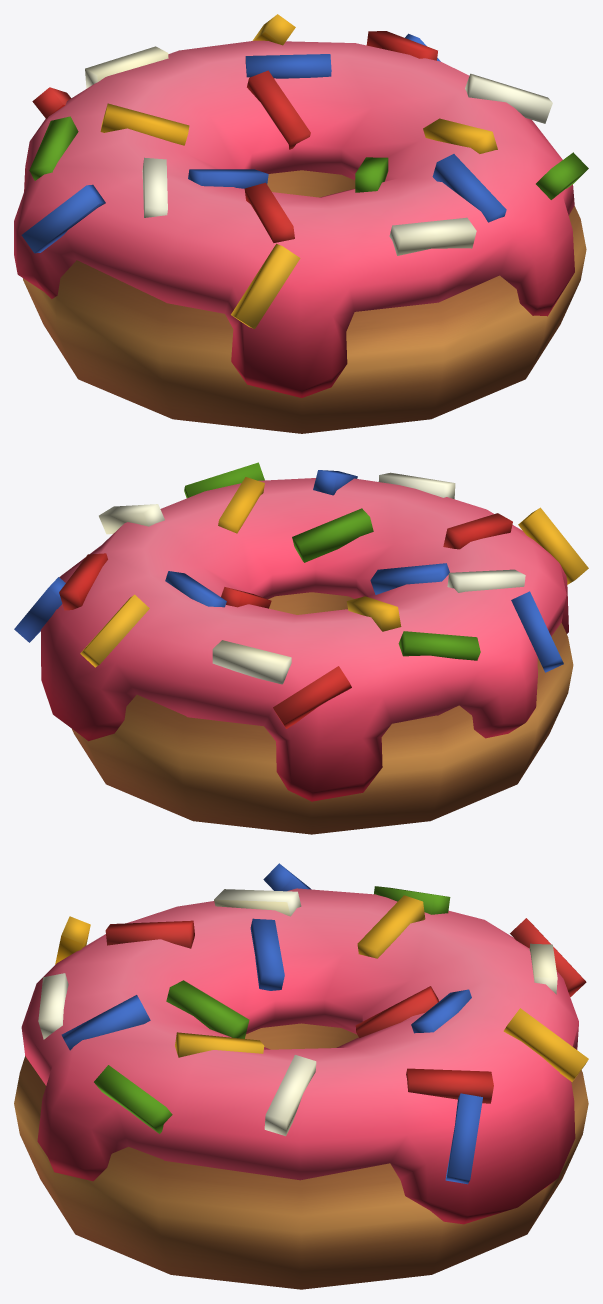
Rendered from m_Donut05.fbx.
3 renders of one model, top to bottom at view 1: azimuth 30°, elevation 25°; view 2: azimuth 150°, elevation 25°; view 3: azimuth 270°, elevation 25°, orthographic. The views are drawn at different scales.
Parts seen in each view (by area): view 1: m_Donut05; view 2: m_Donut05; view 3: m_Donut05.
Part boxes in pixels (x1,y1,x2,y2): m_Donut05: (14, 14, 588, 433); m_Donut05: (14, 462, 588, 834); m_Donut05: (14, 863, 588, 1289).
Size of the model in its own units: 12.89 by 5.72 by 12.17.
